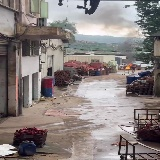fire: (125, 63, 131, 69)
